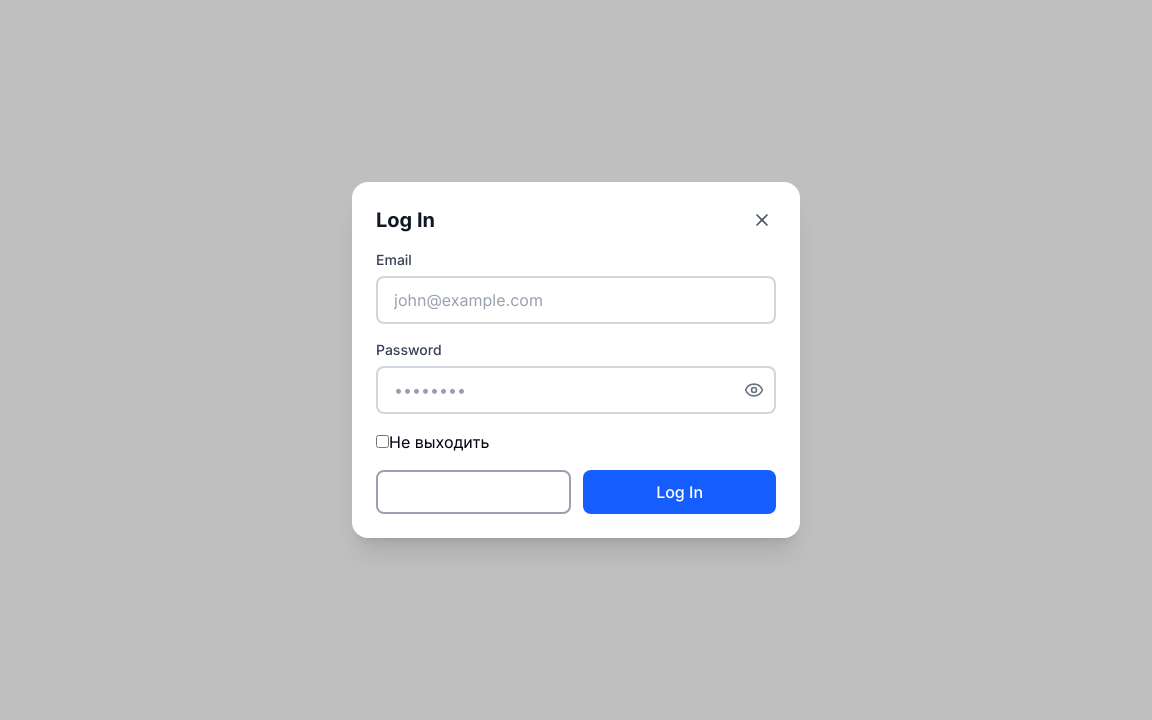
it: LogInFormModal › should show error for invalid email format
Type "bad-email" into the field with placeholder "john@example.com" at (576, 300), box left=376, top=276, right=776, bottom=324
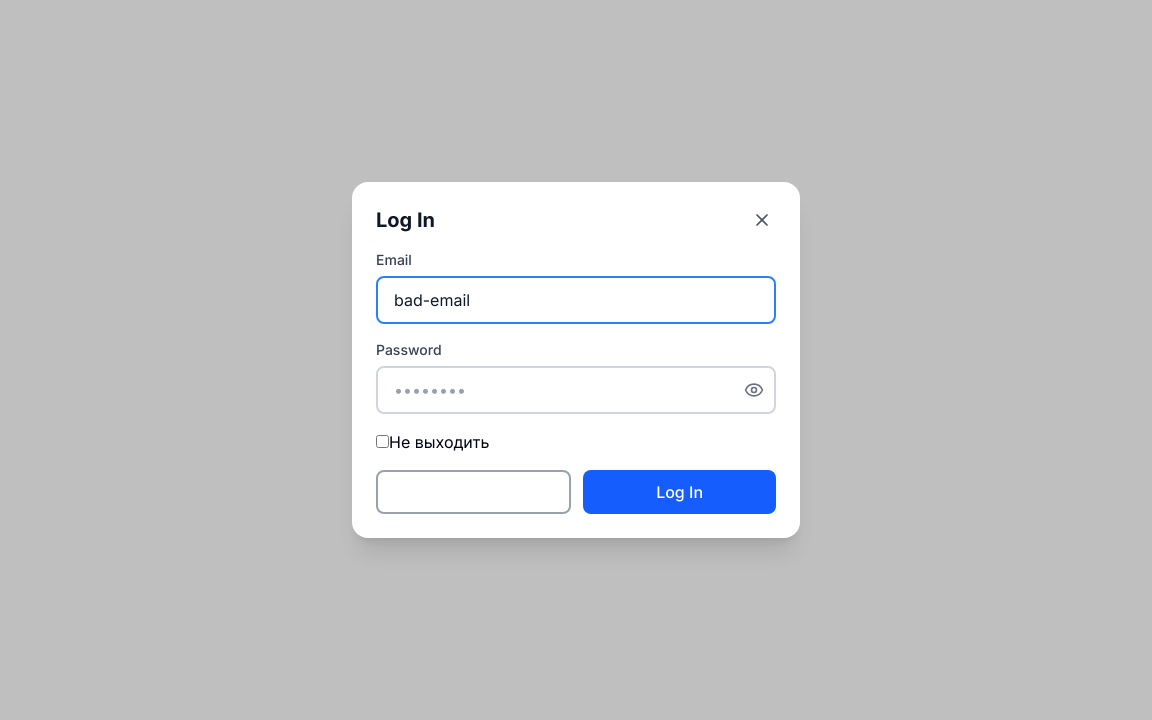
Submit the form, box left=376, top=250, right=776, bottom=514
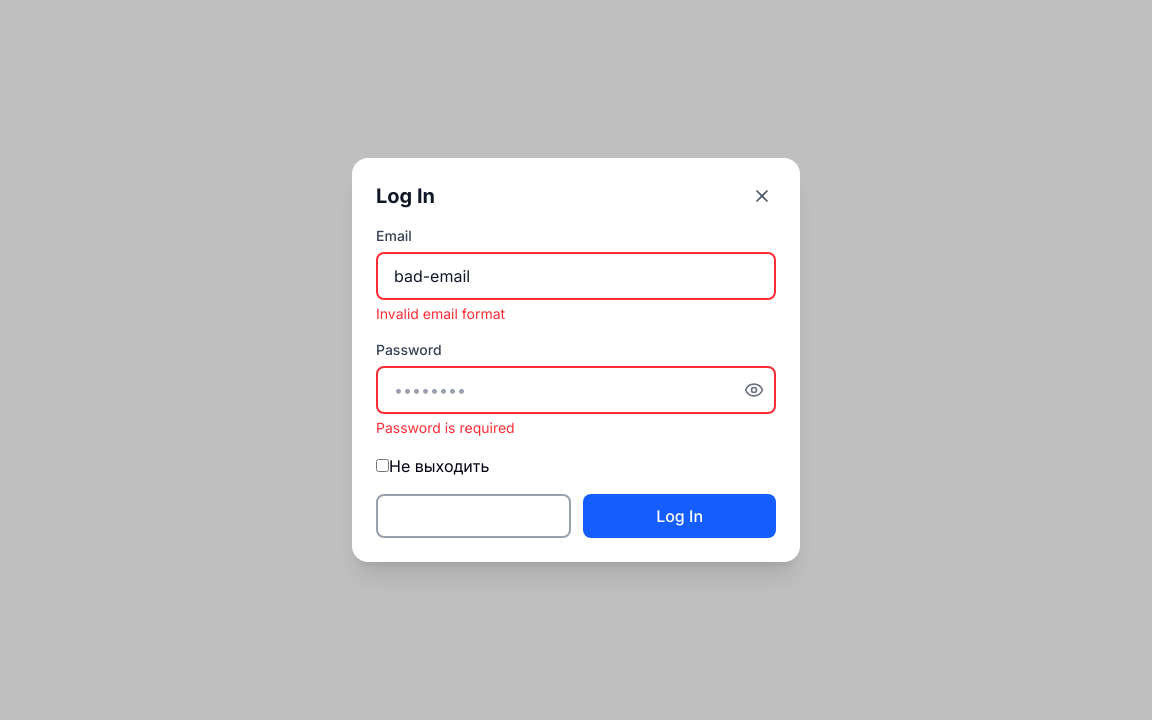
Expected: the text "Invalid email format" is shown, left=376, top=305, right=505, bottom=322
